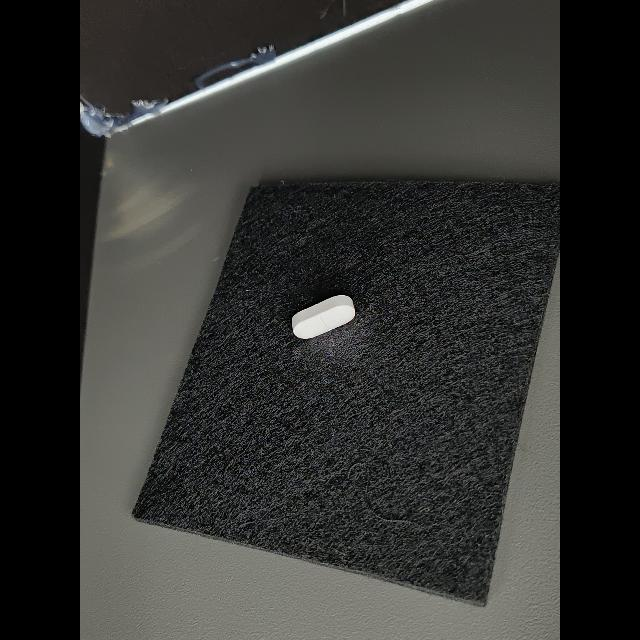Intact Pill: (292, 295, 355, 339)
